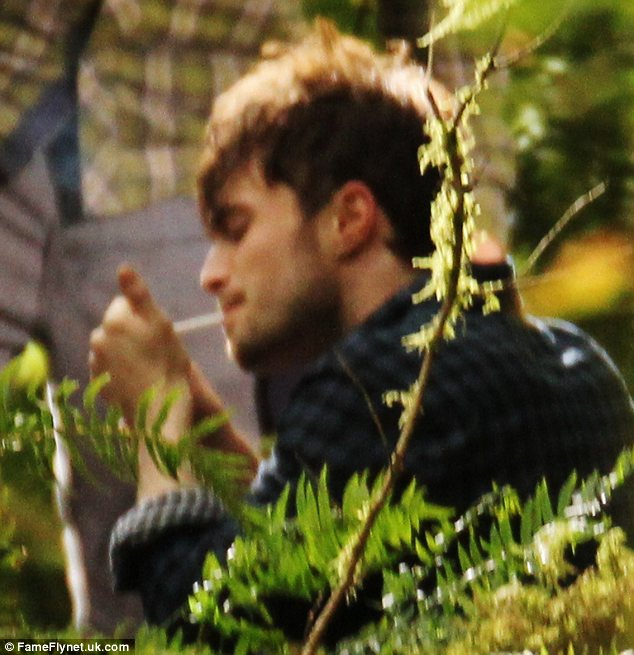cigarette: (160, 307, 229, 336)
